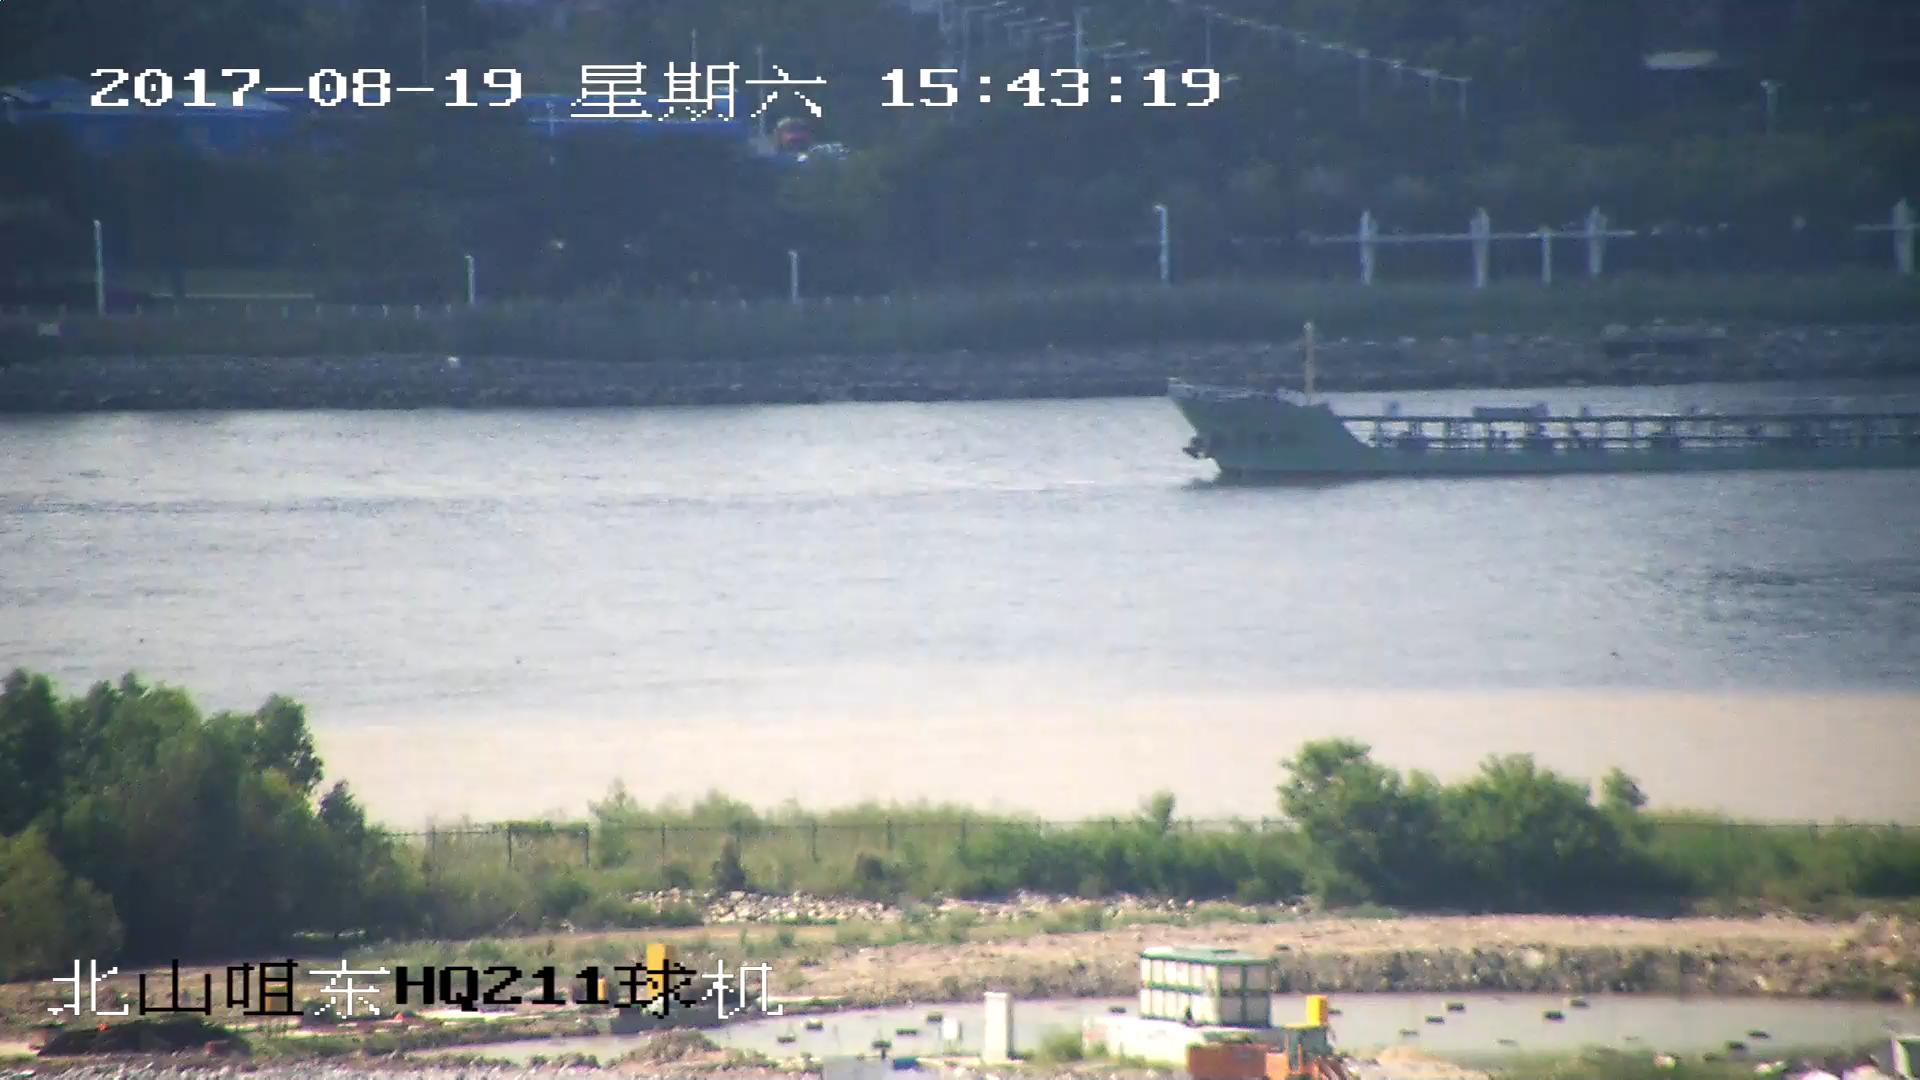general cargo ship: (1168, 383, 1920, 476)
